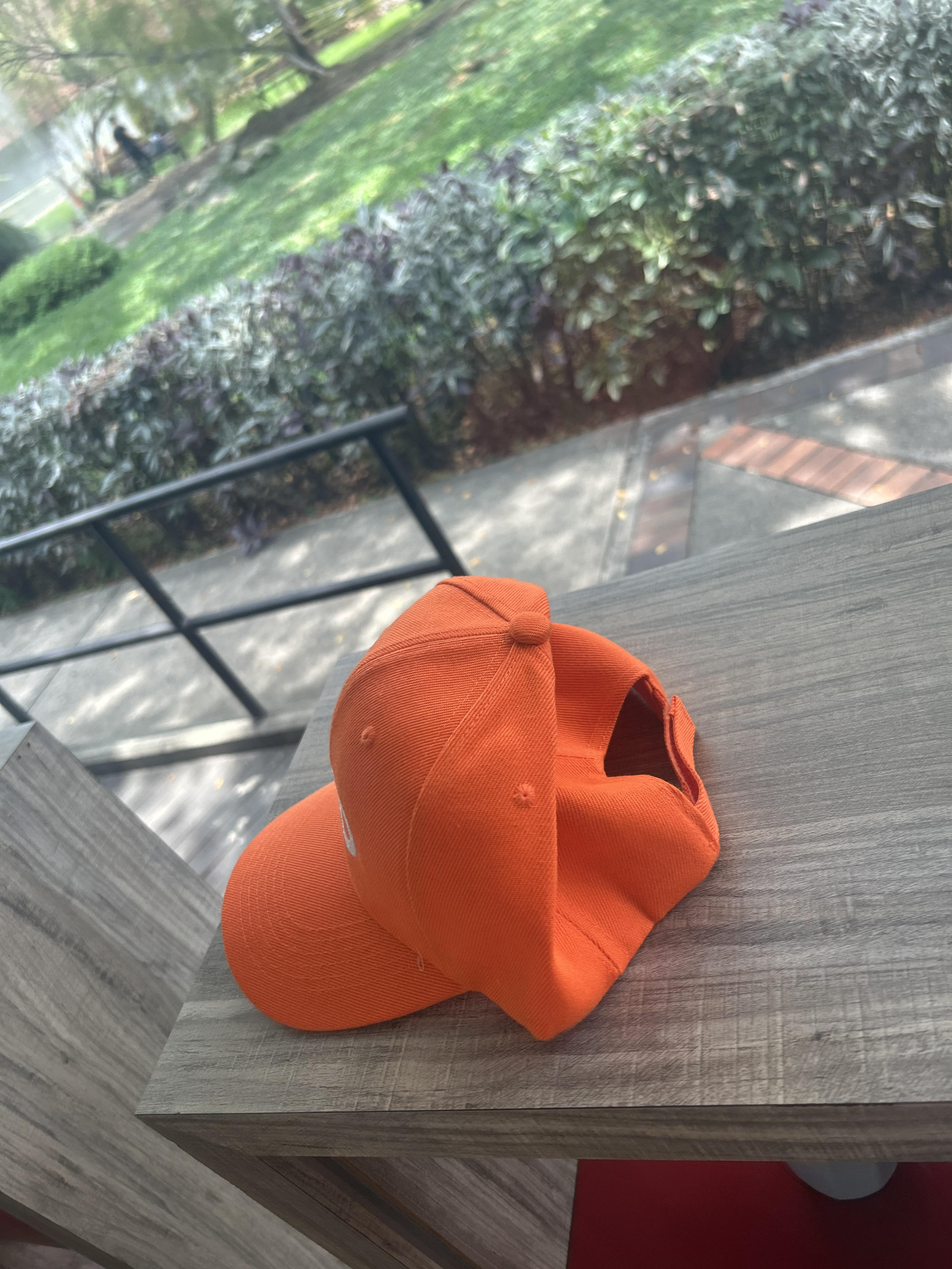gorra: (222, 578, 719, 1040)
